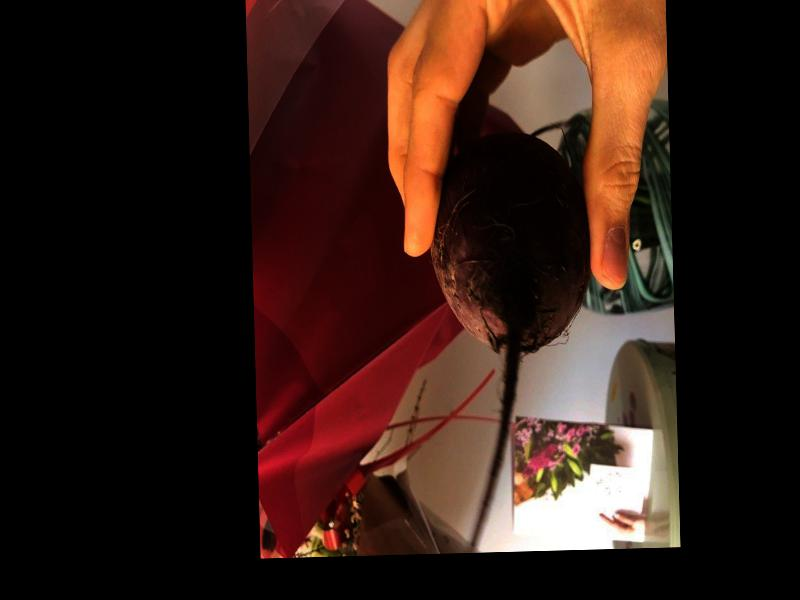Beet: (427, 124, 598, 554)
